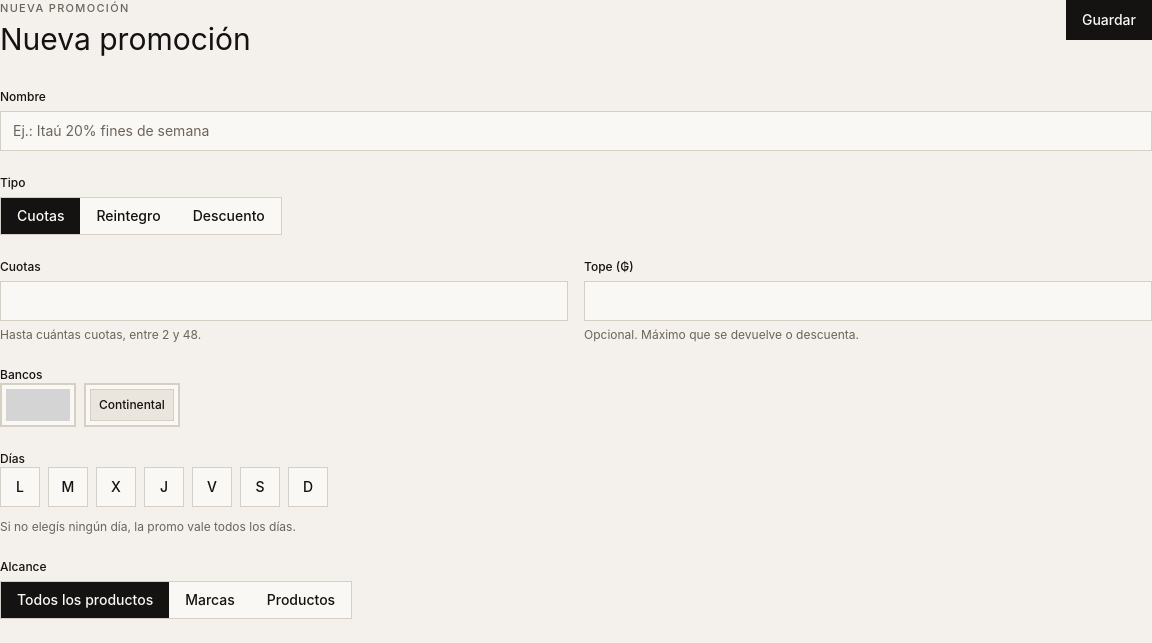
Test case: BankPromoForm › shows field errors and keeps what was typed
In the field labelled "Cuotas": (284, 300) [0,280,568,320], type "99"
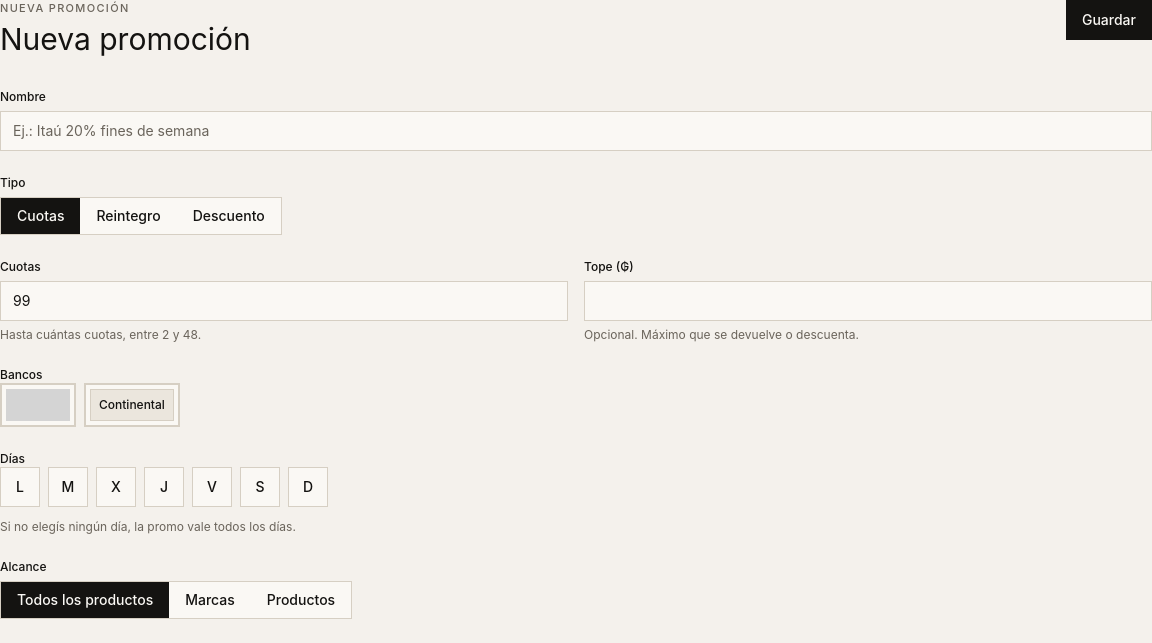
Click the button "Marcas": click(210, 600) [169,582,251,618]
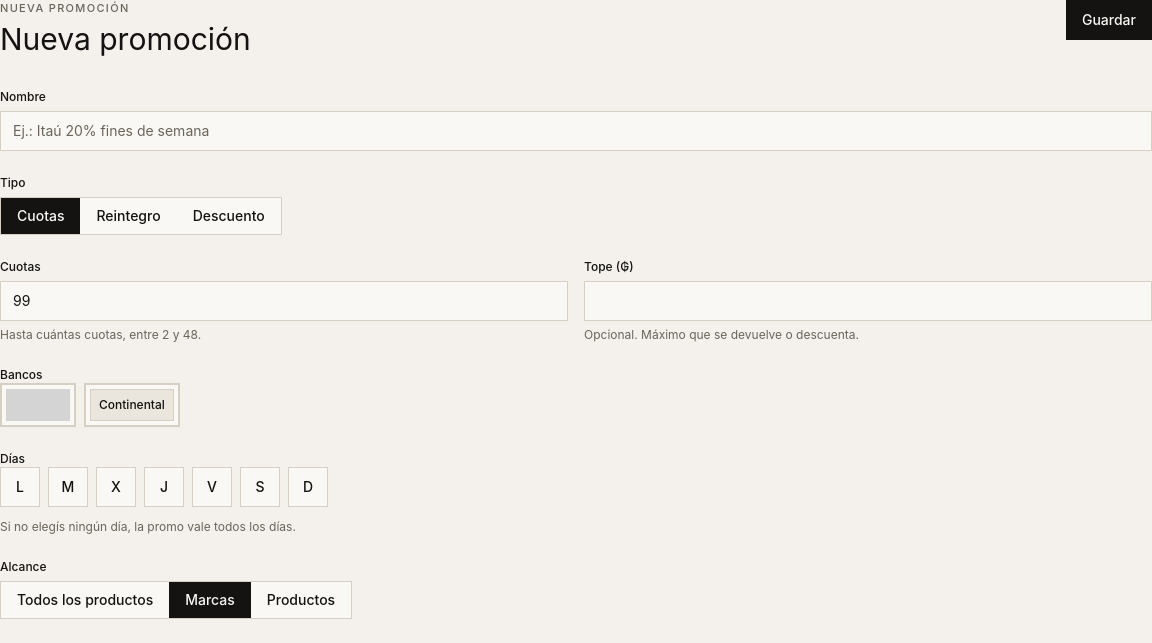
Click the button "Guardar": click(1109, 20) [1066,0,1151,40]
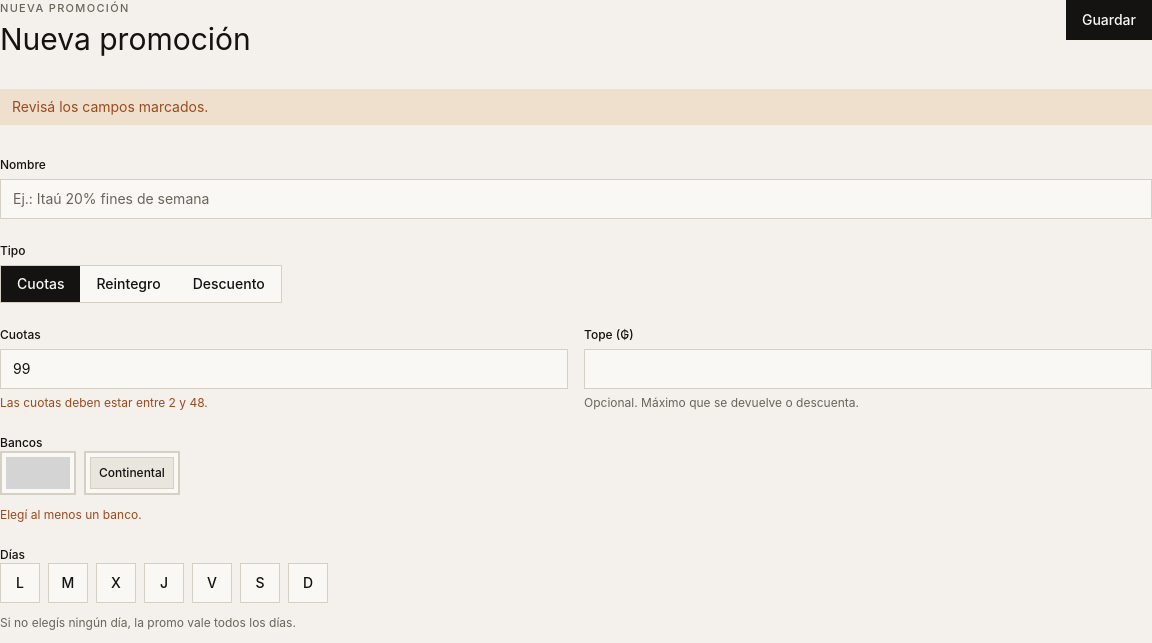
Now the text "Las cuotas deben estar entre 2 y 48." is shown, box [0,394,208,410]
Now the text "Elegí al menos un banco." is shown, box [0,506,142,522]
